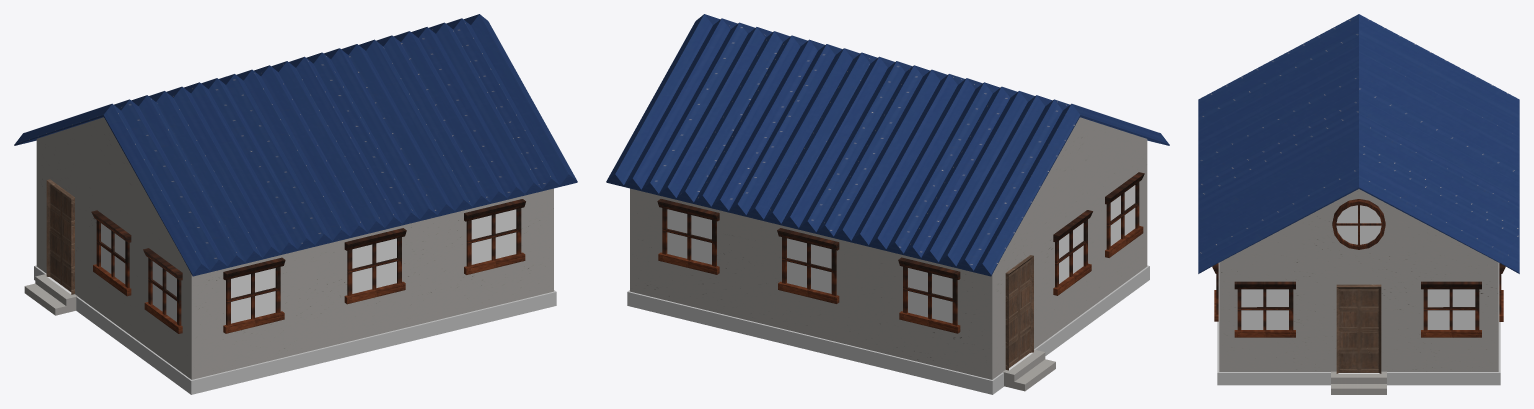
File: House.fbx
The picture shows the model from 3 angles, left to right: view 1: azimuth 30°, elevation 25°; view 2: azimuth 150°, elevation 25°; view 3: azimuth 270°, elevation 25°; orthographic projection. The views are drawn at different scales.
Parts seen in each view (by area): view 1: House; view 2: House; view 3: House.
Part boxes in pixels (x1,y1,x2,y2): House: [14, 14, 577, 394]; House: [606, 14, 1169, 394]; House: [1198, 14, 1519, 394].
Size of the model in its own units: 623 by 340 by 471.
